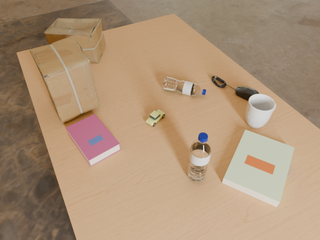book: (222, 130, 294, 207), (66, 114, 121, 166)
bottle: (187, 133, 212, 182), (162, 77, 206, 96)
box: (30, 36, 99, 123), (44, 18, 106, 63)
cup: (245, 94, 276, 128)
mouse: (234, 86, 259, 100)
toy_car: (146, 110, 165, 126)
